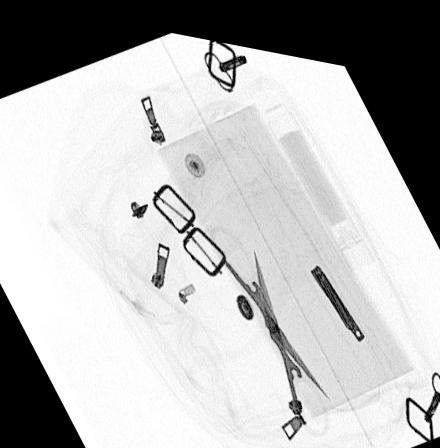Scissors: (206, 214, 332, 425)
